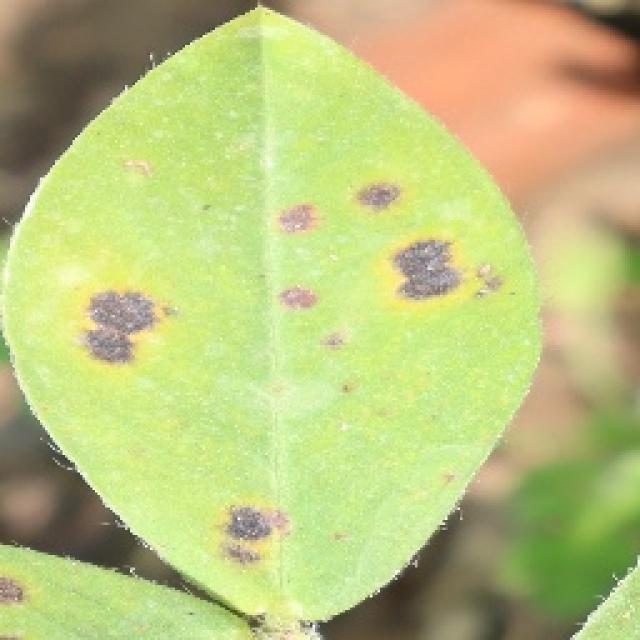Yellowish: (246, 180, 529, 384), (181, 466, 332, 628), (68, 249, 189, 400), (0, 534, 56, 630)
